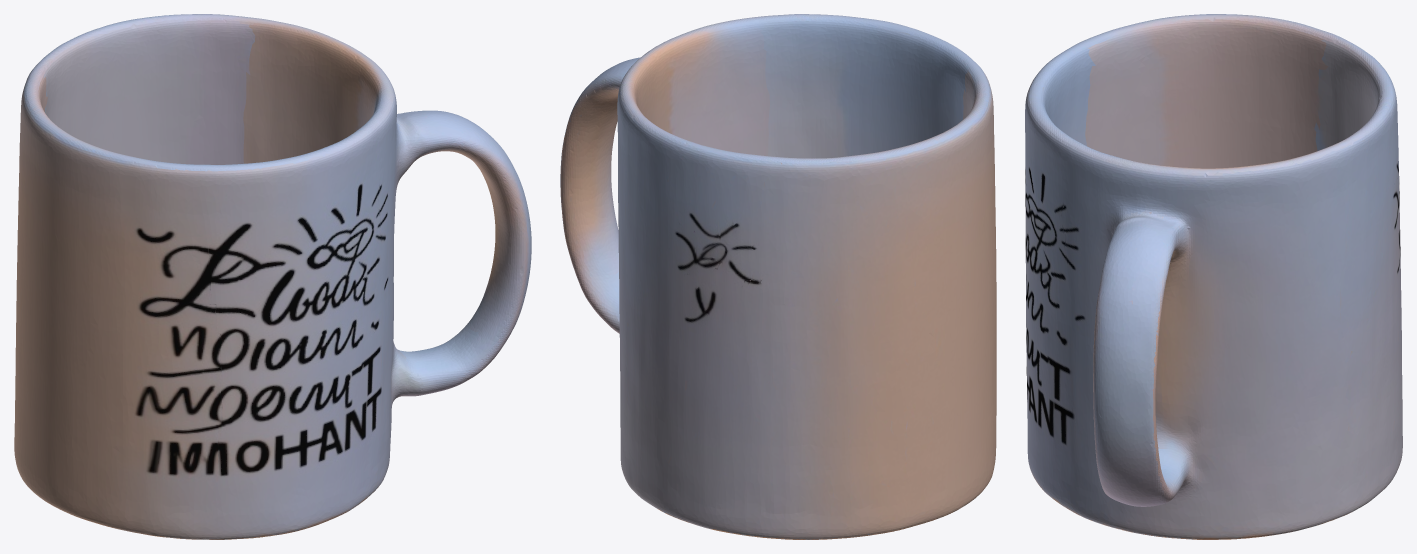
The model's file is Hy21_Glass_Mesh5.glb.
3 views of the same model, side by side, from view 1: azimuth 30°, elevation 25°; view 2: azimuth 150°, elevation 25°; view 3: azimuth 270°, elevation 25° (orthographic).
Visible parts, largest first — view 1: Hy21_Glass_Mesh.obj; view 2: Hy21_Glass_Mesh.obj; view 3: Hy21_Glass_Mesh.obj.
Part boxes in pixels (x1=…): Hy21_Glass_Mesh.obj: x1=14, y1=14, x2=531, y2=539; Hy21_Glass_Mesh.obj: x1=560, y1=14, x2=996, y2=539; Hy21_Glass_Mesh.obj: x1=1025, y1=14, x2=1402, y2=539.
Bounding box in the file's own units: 1.95 × 1.59 × 1.44.
Materials: 1 (1 with a texture image).
